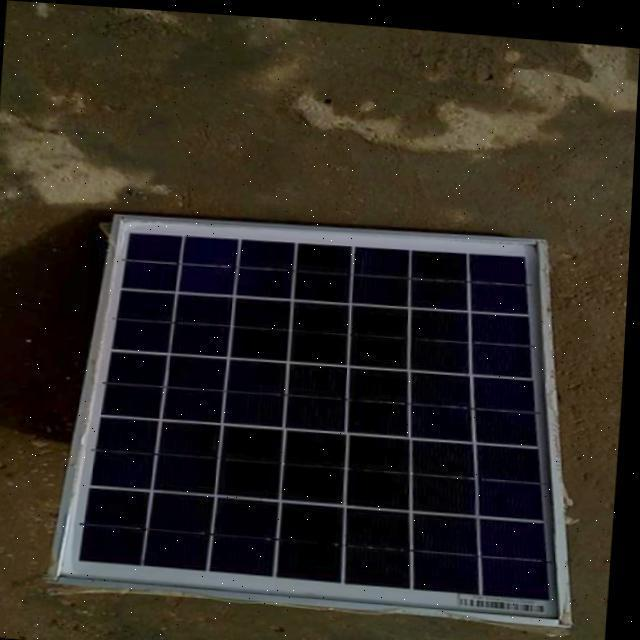Normal Solar Panel: (51, 198, 600, 625)
